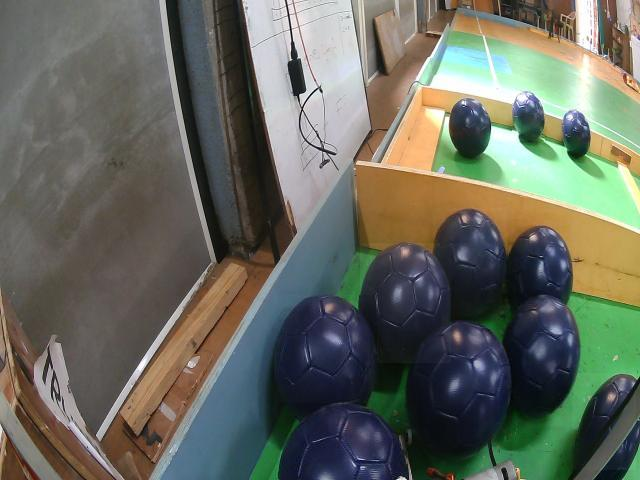kaalyya: (406, 320, 511, 458), (275, 295, 377, 418), (360, 244, 451, 363), (278, 404, 407, 480), (503, 295, 580, 416), (433, 209, 507, 318), (573, 374, 636, 470), (507, 225, 572, 308), (596, 420, 640, 480), (449, 99, 491, 158), (513, 91, 545, 141), (562, 110, 591, 158)
